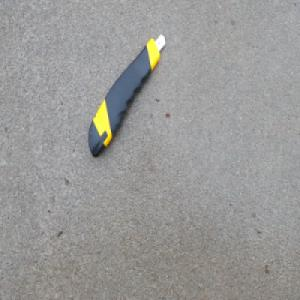Cutter: (88, 31, 166, 159)
